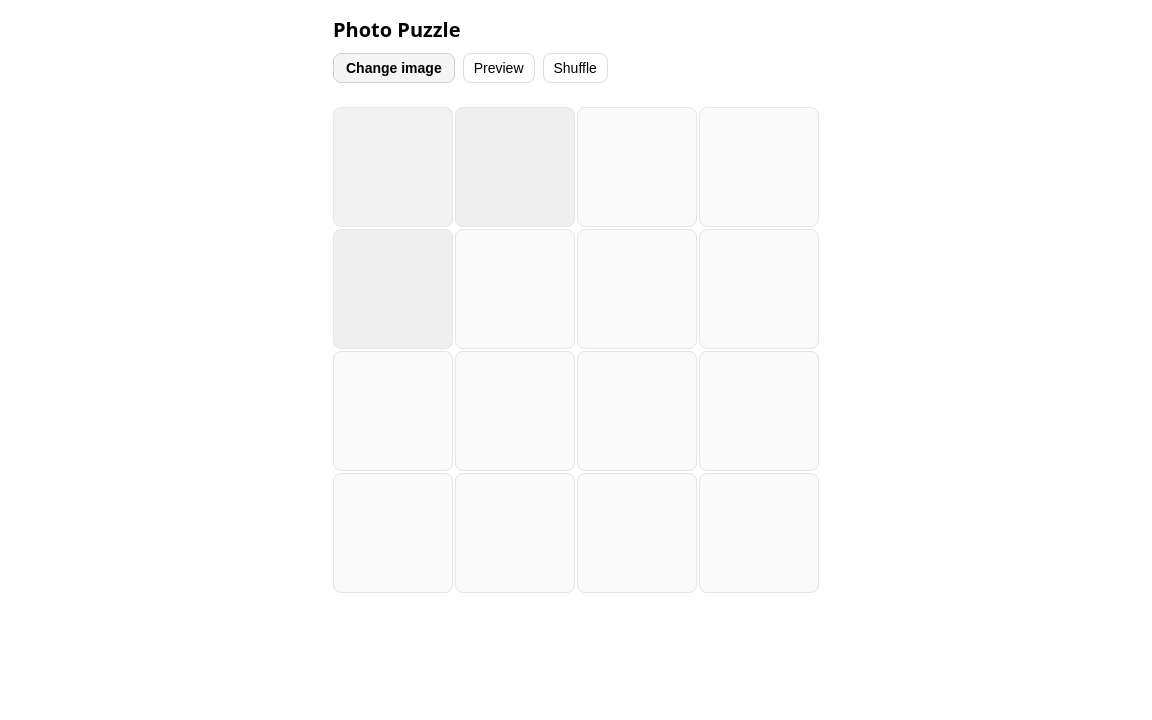
Scenario: GamePage › Change image button opens picker modal
Expected: the dialog "choose image" is not shown
Step 1. Click the button "Change image" → point(394, 68), box x1=333 y1=53 x2=455 y2=83
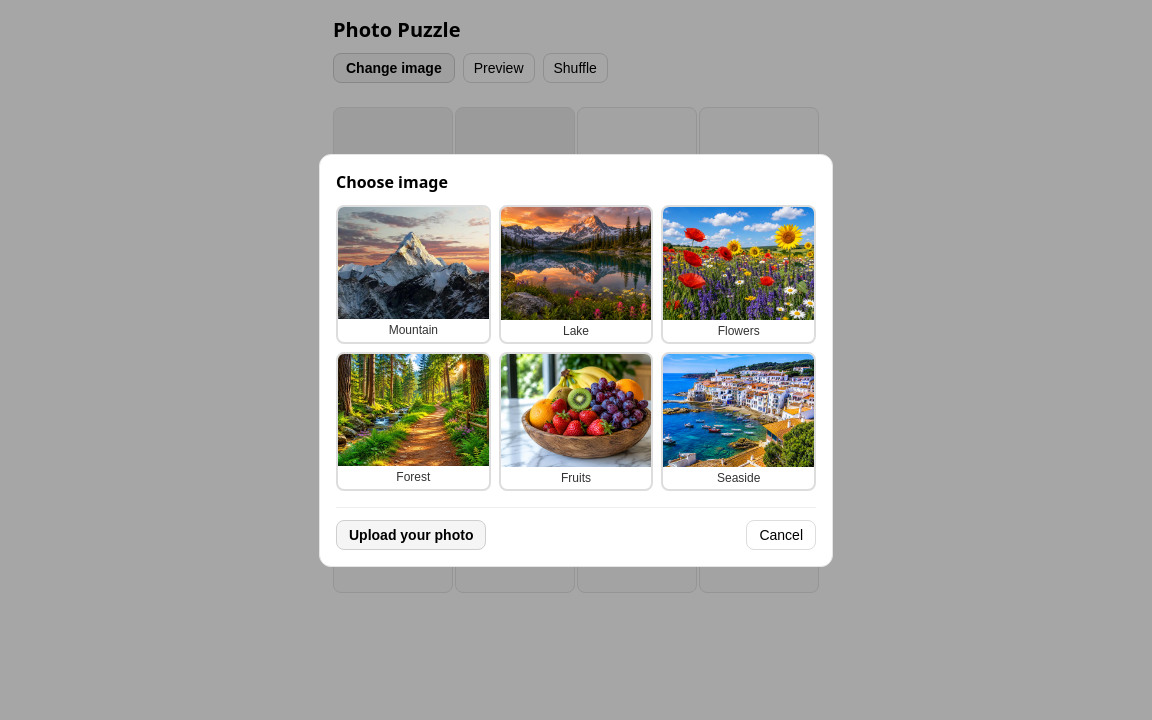
Expected: the dialog "Choose image" is shown
